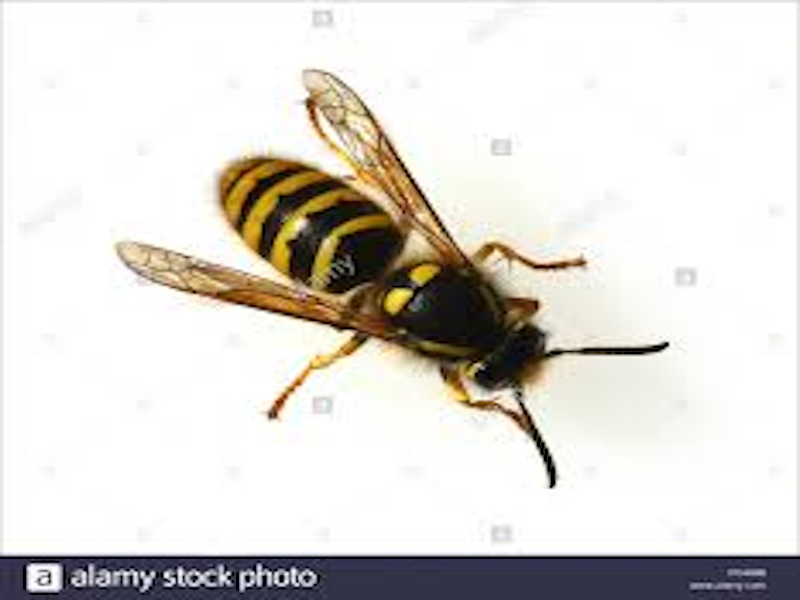chax: (103, 58, 693, 505)
